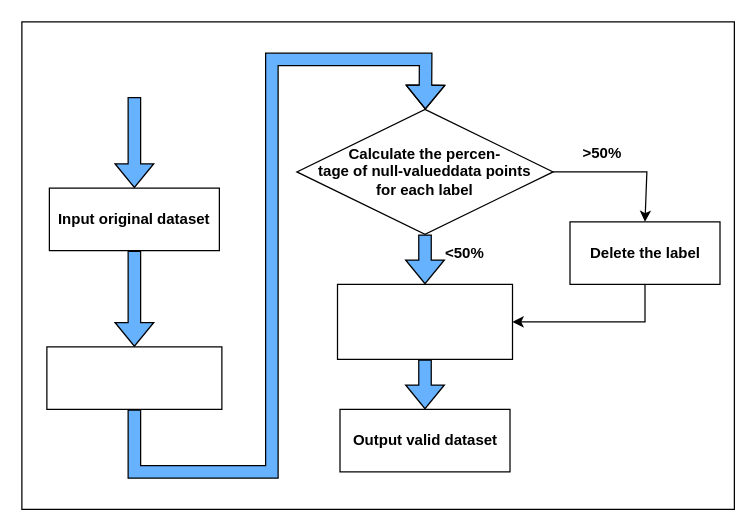
This 756x531 diagram has some shape labels left out. The box of each missing label's shape, as (x1, y1, x2, y2) in pixels:
Count the number of null-valued data points for each label: (46, 346, 222, 409)
Delete null-valued data points: (336, 283, 512, 359)
